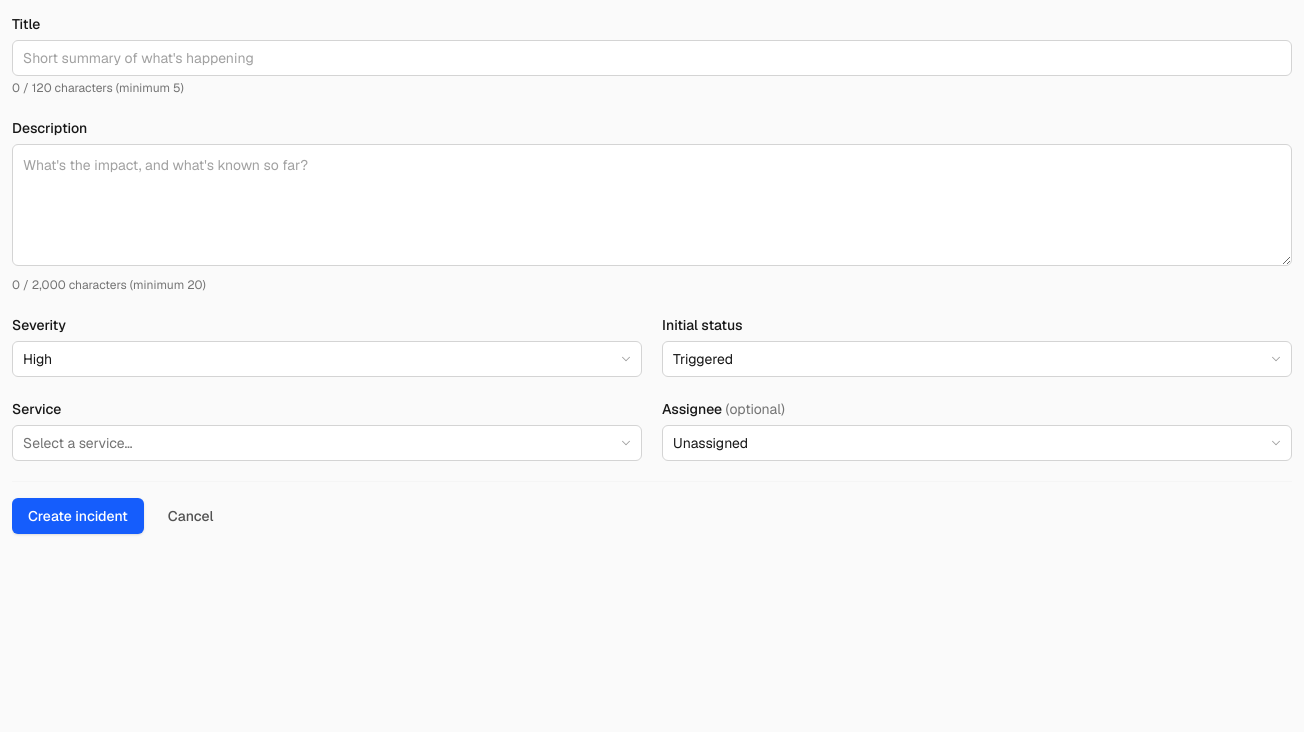
Test case: CreateIncidentForm › blocks submission and reports every problem when the form is empty
Click the button "Create incident": (78, 516) x1=12 y1=498 x2=144 y2=534
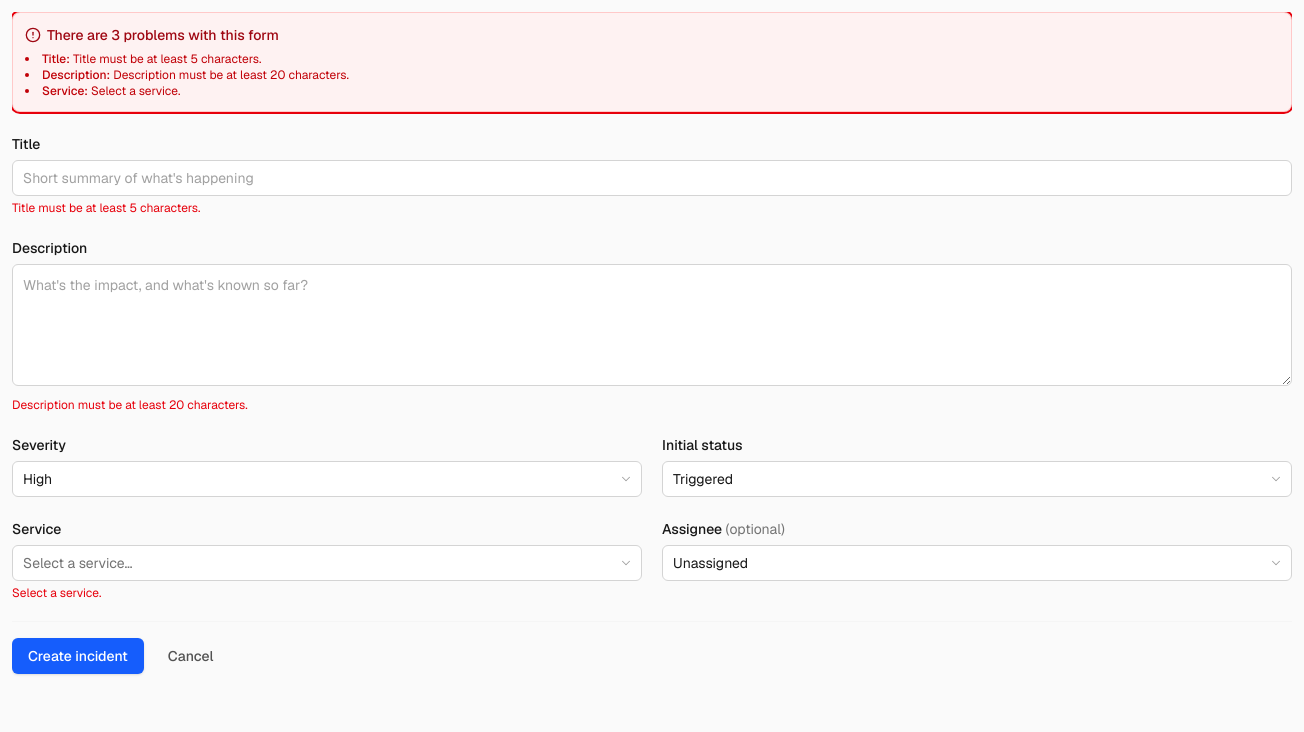
Expected: the text "There are 3 problems with this form" is shown, x1=47 y1=26 x2=279 y2=44
Expected: the text "Title" is shown, x1=42 y1=51 x2=66 y2=67
Expected: the text "Description" is shown, x1=42 y1=67 x2=106 y2=83
